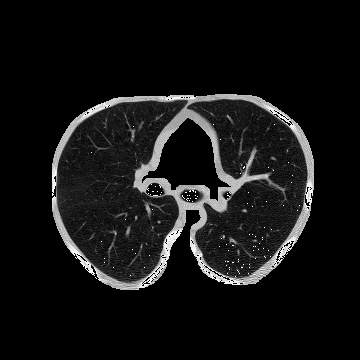PN: (242, 208, 246, 212)
